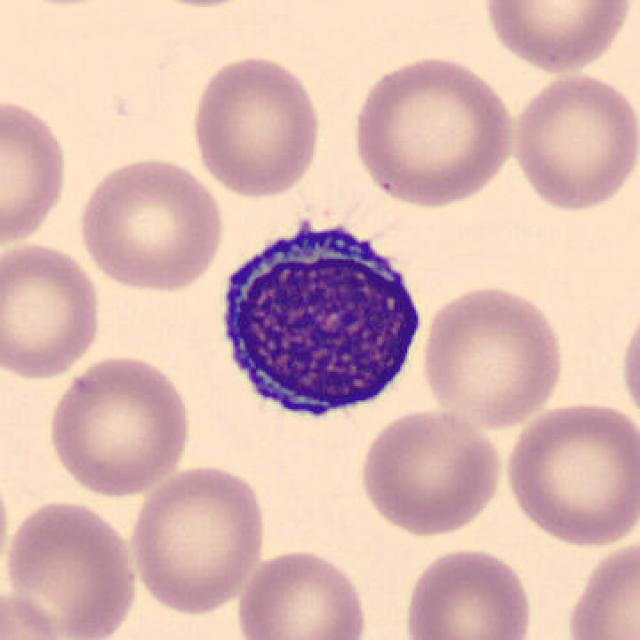Lymphocyte: (206, 208, 430, 430)
RBC: (347, 51, 519, 210), (124, 460, 270, 617), (418, 280, 569, 430), (43, 351, 194, 499), (73, 153, 227, 293), (187, 51, 325, 201), (0, 495, 142, 640), (502, 399, 638, 550), (354, 406, 506, 540), (507, 69, 638, 215), (0, 240, 105, 382), (400, 543, 537, 640), (233, 545, 371, 640), (478, 0, 636, 76), (0, 92, 73, 252), (562, 532, 640, 640), (0, 585, 73, 640), (617, 296, 640, 430), (126, 0, 270, 12)
